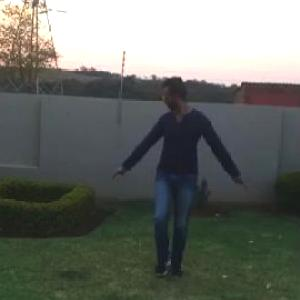land: (94, 65, 280, 299)
